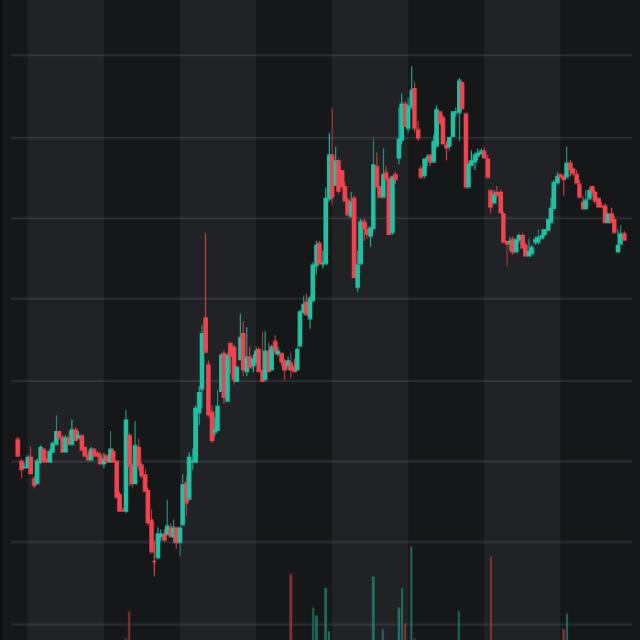Resistance-breakout: (237, 134, 340, 380), (118, 326, 205, 555)
